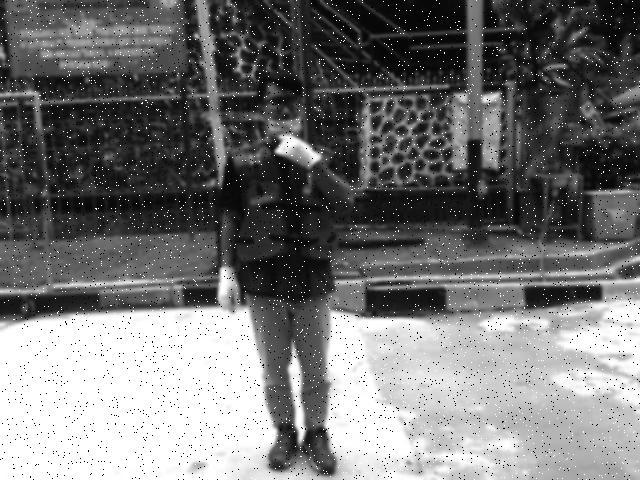glasses: (263, 97, 304, 110)
gloves: (275, 134, 321, 174), (215, 262, 240, 319)
mask: (268, 119, 304, 138)
safety-shoes: (298, 427, 339, 475), (265, 423, 300, 470)
vest: (234, 180, 341, 265)
